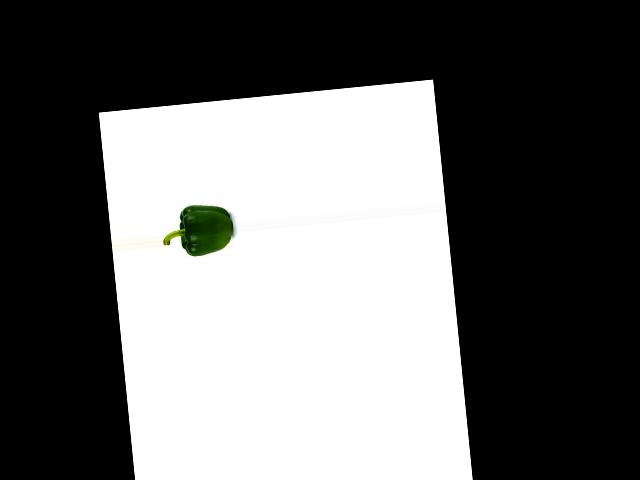bell_pepper: (161, 193, 235, 260)
